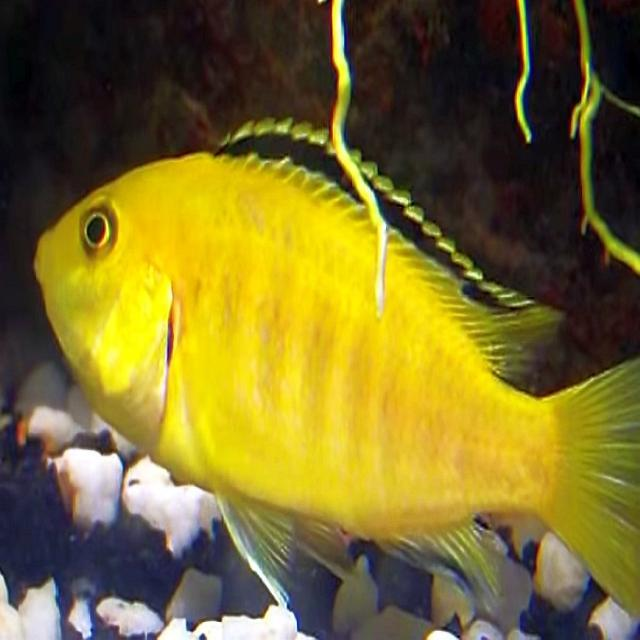YellowCichlid: (30, 94, 640, 618)
